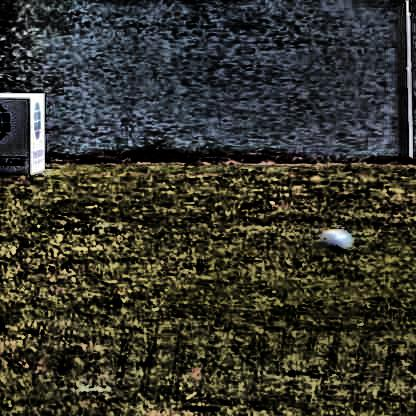golfball: (315, 222, 351, 256)
